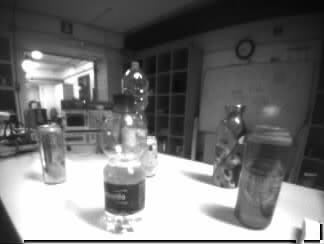Bottle: (103, 94, 146, 230), (211, 103, 242, 187), (123, 61, 148, 96)
Tin can: (238, 125, 286, 230), (38, 123, 66, 182)
